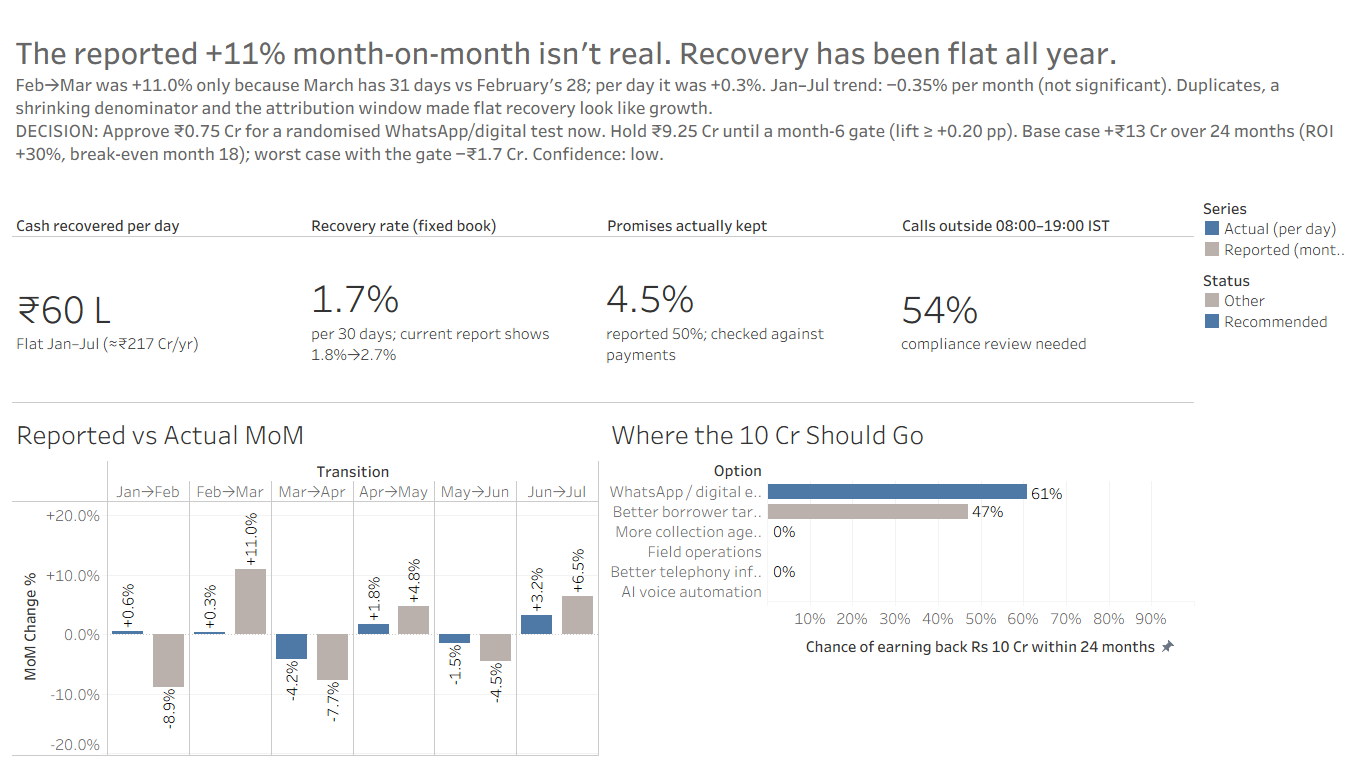

The dashboard page shown, as its layout file describes it:
{"tool":"tableau","page":{"name":"Executive Dashboard","canvas":[1366,768],"ordinal":0},"visuals":[{"type":"text","box":[8,8,1350,184]},{"type":"worksheet","title":"Headline KPIs","mark":"Automatic","cols":["KPI"],"box":[8,192,1190,215]},{"type":"legend","title":"Reported vs Actual MoM","param":"[federated.0n1gcxo0llsxgh1h1axap1788qhk].[none:Series:nk]","box":[1198,192,160,72]},{"type":"legend","title":"Where the 10 Cr Should Go","param":"[federated.0ckt9r9187q7na1elwyev1h6bdbm].[none:Status:nk]","box":[1198,264,160,72]},{"type":"worksheet","title":"Reported vs Actual MoM","mark":"Automatic","rows":["MoM Change %"],"cols":["Transition","Series"],"box":[8,407,595,353]},{"type":"worksheet","title":"Where the 10 Cr Should Go","mark":"Automatic","rows":["Option"],"cols":["Chance of Paying Back %"],"box":[603,407,595,353]}]}

Visuals, with their boxes in screenshot pixels (x1, y1, x2, y2), scaled from the page's 1366x768 canvas onto the 1366x768 screenshot:
text: rect(8, 8, 1358, 192)
"Headline KPIs" worksheet: rect(8, 192, 1198, 407)
"Reported vs Actual MoM" legend: rect(1198, 192, 1358, 264)
"Where the 10 Cr Should Go" legend: rect(1198, 264, 1358, 336)
"Reported vs Actual MoM" worksheet: rect(8, 407, 603, 760)
"Where the 10 Cr Should Go" worksheet: rect(603, 407, 1198, 760)
